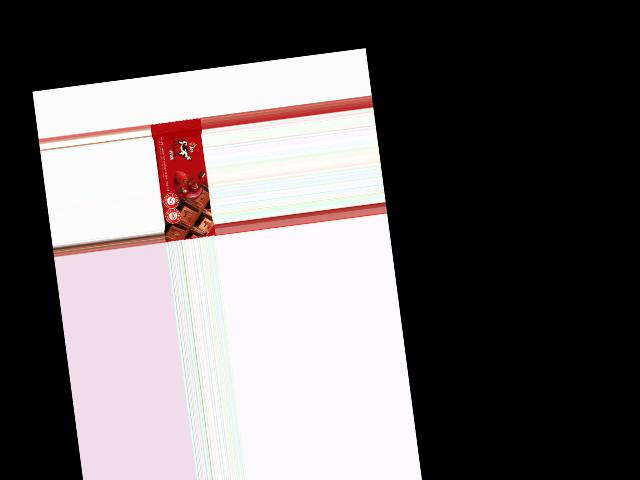chocolate: (149, 117, 214, 241)
